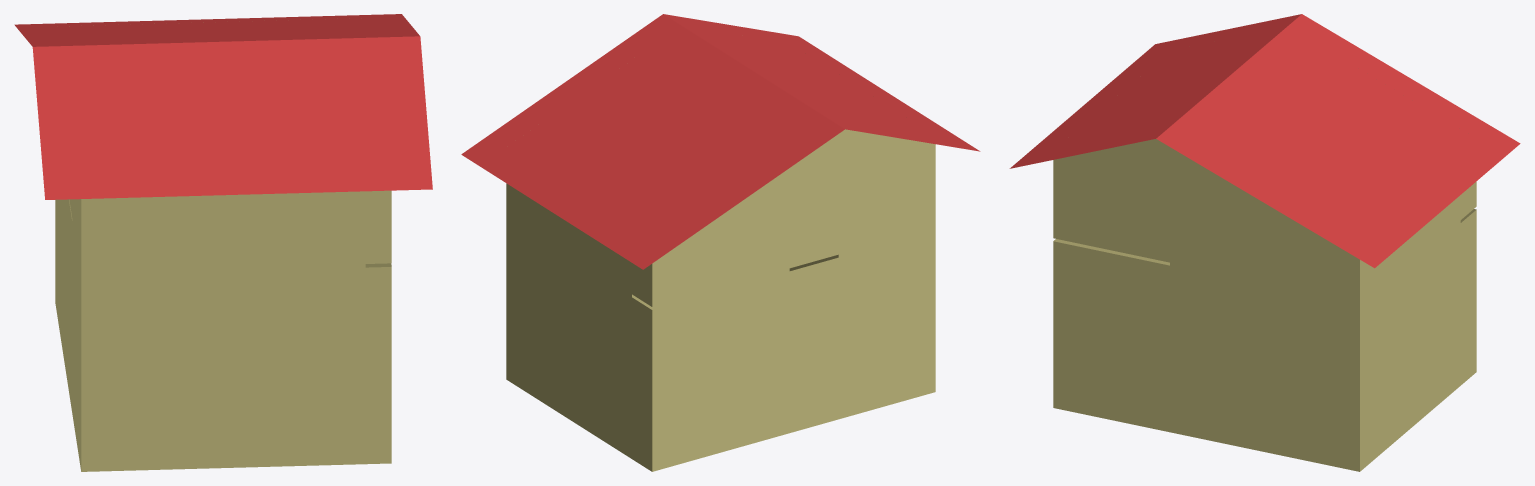
3 views of the same model, side by side, from view 1: azimuth 30°, elevation 25°; view 2: azimuth 150°, elevation 25°; view 3: azimuth 270°, elevation 25° (orthographic). The views are drawn at different scales.
Size of the model in its own units: 14.52 by 15.6 by 10.3.
